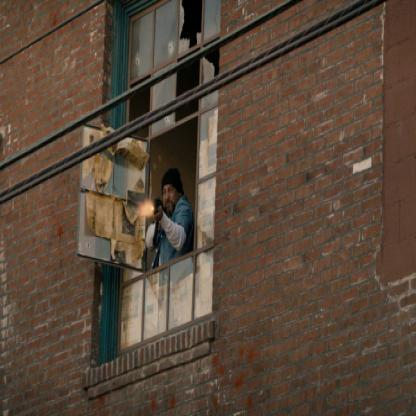Gun: (148, 193, 163, 243)
